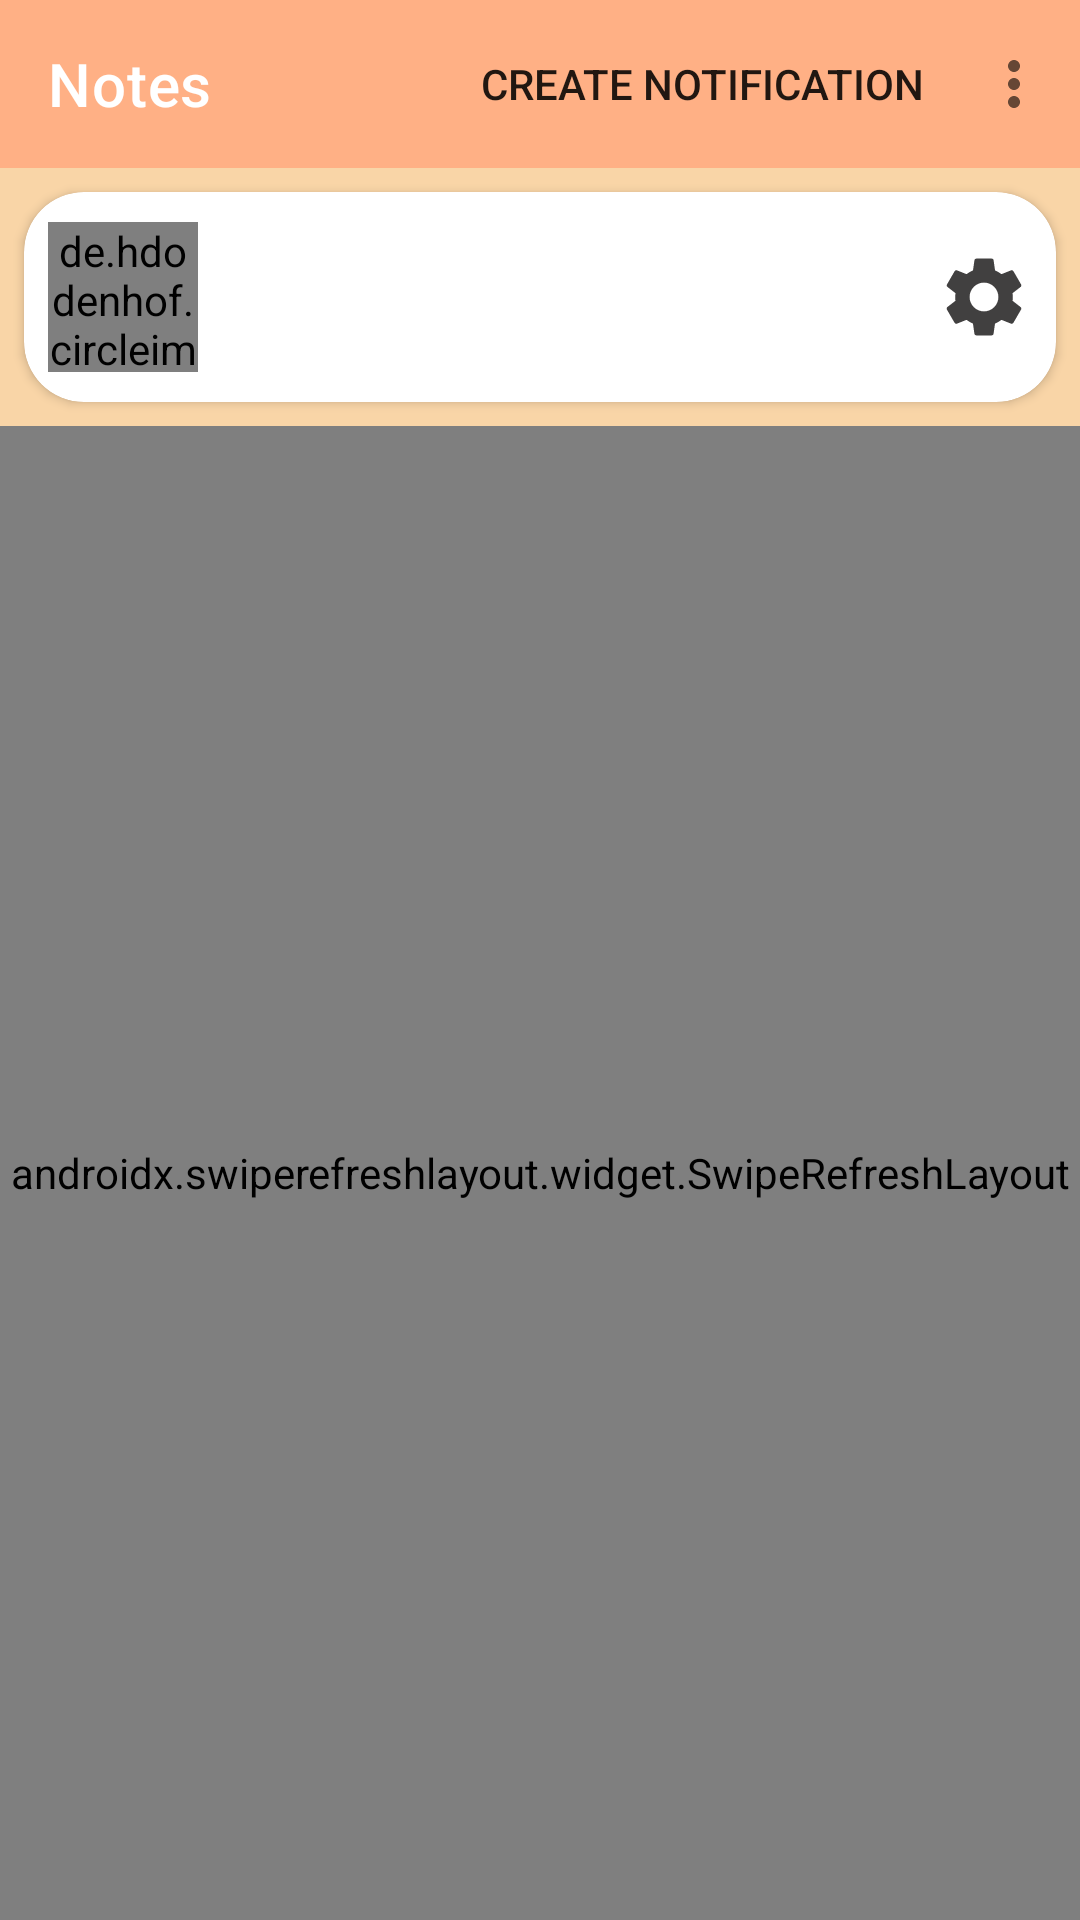

Named icons in this screenshot (1080*1920) and their bounding boxes, (x1, y1, x2, y2):
settings: (946, 258, 1022, 336)
